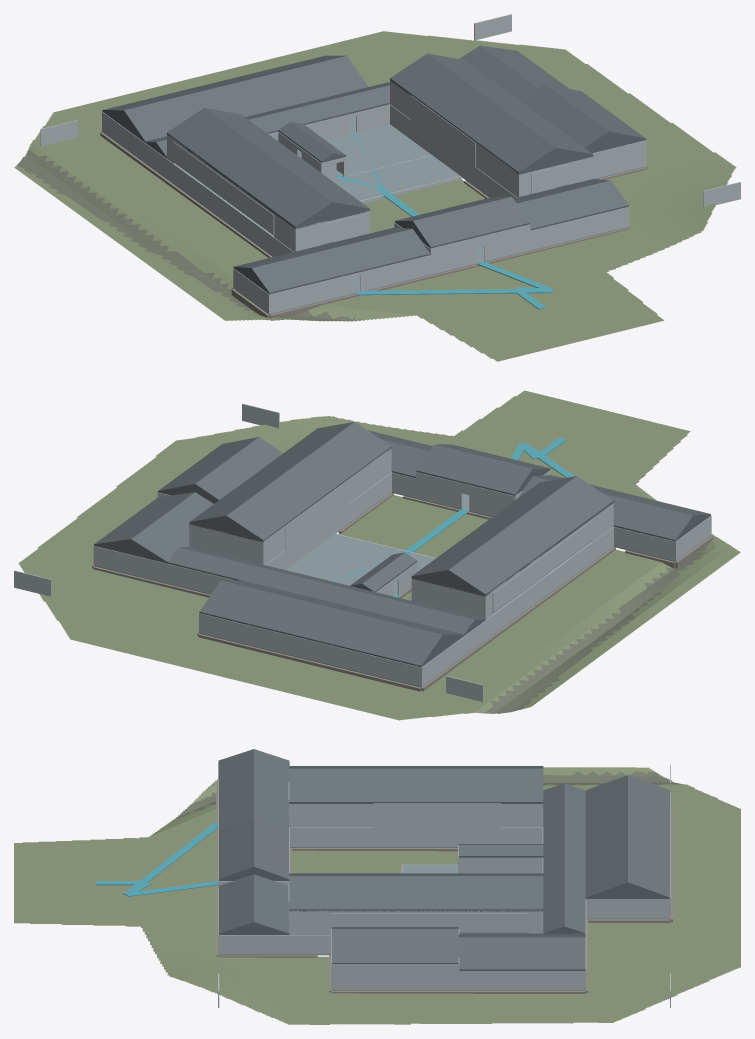
File: enclosed-roofs.glb
3 views of the same model, one above another, from view 1: azimuth 30°, elevation 25°; view 2: azimuth 150°, elevation 25°; view 3: azimuth 270°, elevation 25° (orthographic).
Visible parts, largest first — view 1: Saved editor macroterrain PRISON, food-and-medical roof south, east-cellhouse roof west, west-cellhouse roof west, intake-and-visitors roof south, sally-port roof south, guard-and-staff roof south, Ceiling cap plant, west-cellhouse roof east, east-cellhouse roof east, Ceiling cap laundry, north-cross roof south (+32 smaller); view 2: Saved editor macroterrain PRISON, food-and-medical roof north, west-cellhouse roof west, east-cellhouse roof west, north-cross roof north, sally-port roof north, west-cellhouse roof east, east-cellhouse roof east, intake-and-visitors roof north, isolation roof west, chapel roof west, Ceiling cap laundry (+29 smaller); view 3: Saved editor macroterrain PRISON, west-cellhouse roof east, east-cellhouse roof east, food-and-medical roof south, food-and-medical roof north, chapel roof east, isolation roof east, Wall chapel E, north-cross roof south, north-cross roof north, Wall a-rear-bypass E, intake-and-visitors roof south (+30 smaller).
Boxes of the visible parts, box(x1,y1,x2,y2) form: Saved editor macroterrain PRISON: box(14, 31, 736, 361); food-and-medical roof south: box(124, 56, 368, 142); east-cellhouse roof west: box(390, 53, 555, 173); west-cellhouse roof west: box(167, 108, 332, 227); intake-and-visitors roof south: box(251, 229, 430, 293); sally-port roof south: box(413, 197, 529, 247); guard-and-staff roof south: box(517, 180, 628, 230); Ceiling cap plant: box(325, 124, 431, 175); west-cellhouse roof east: box(204, 108, 369, 209); east-cellhouse roof east: box(428, 53, 593, 155); Ceiling cap laundry: box(332, 155, 460, 200); north-cross roof south: box(156, 85, 389, 157); Saved editor macroterrain PRISON: box(18, 390, 740, 720); food-and-medical roof north: box(199, 580, 442, 667); west-cellhouse roof west: box(448, 476, 613, 595); east-cellhouse roof west: box(226, 422, 391, 541); north-cross roof north: box(168, 547, 474, 634); sally-port roof north: box(416, 444, 532, 495); west-cellhouse roof east: box(411, 476, 576, 577); east-cellhouse roof east: box(189, 422, 353, 523); intake-and-visitors roof north: box(517, 476, 693, 541); isolation roof west: box(131, 492, 213, 563); chapel roof west: box(195, 437, 283, 500); Ceiling cap laundry: box(307, 534, 435, 571); Saved editor macroterrain PRISON: box(14, 767, 740, 1024); west-cellhouse roof east: box(289, 768, 543, 803); east-cellhouse roof east: box(289, 876, 543, 910); food-and-medical roof south: box(585, 775, 627, 898); food-and-medical roof north: box(628, 775, 670, 898); chapel roof east: box(331, 929, 458, 964); isolation roof east: box(458, 937, 585, 970); Wall chapel E: box(331, 964, 458, 990); north-cross roof south: box(543, 783, 564, 933); north-cross roof north: box(564, 783, 585, 933); Wall a-rear-bypass E: box(430, 803, 500, 846); intake-and-visitors roof south: box(218, 749, 253, 831).
Size of the model in its own units: 87 by 12.6 by 103.
